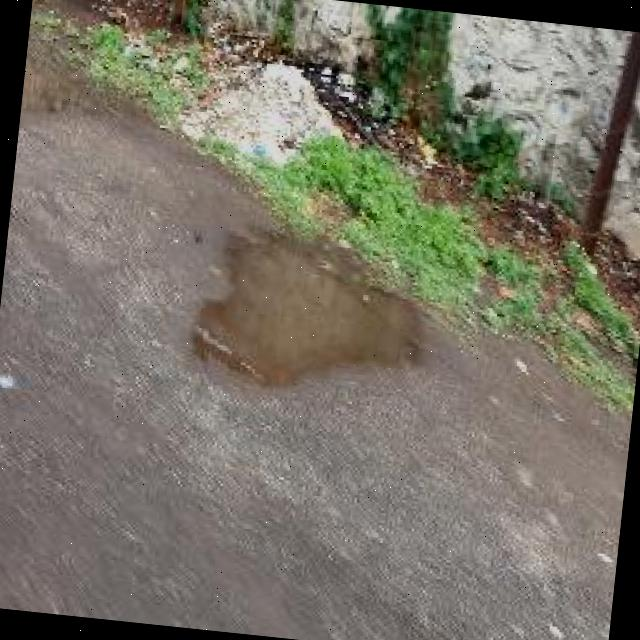stagnation: (210, 241, 426, 397)
